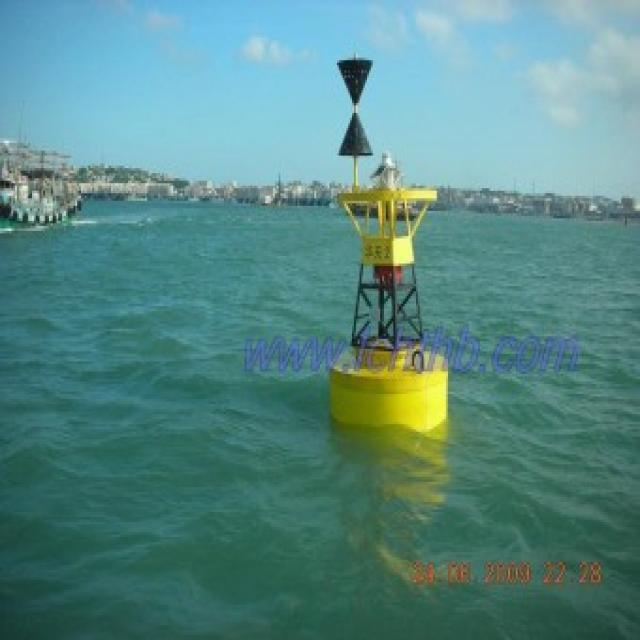2.2 cardinal mark -W-: (311, 28, 467, 439)
